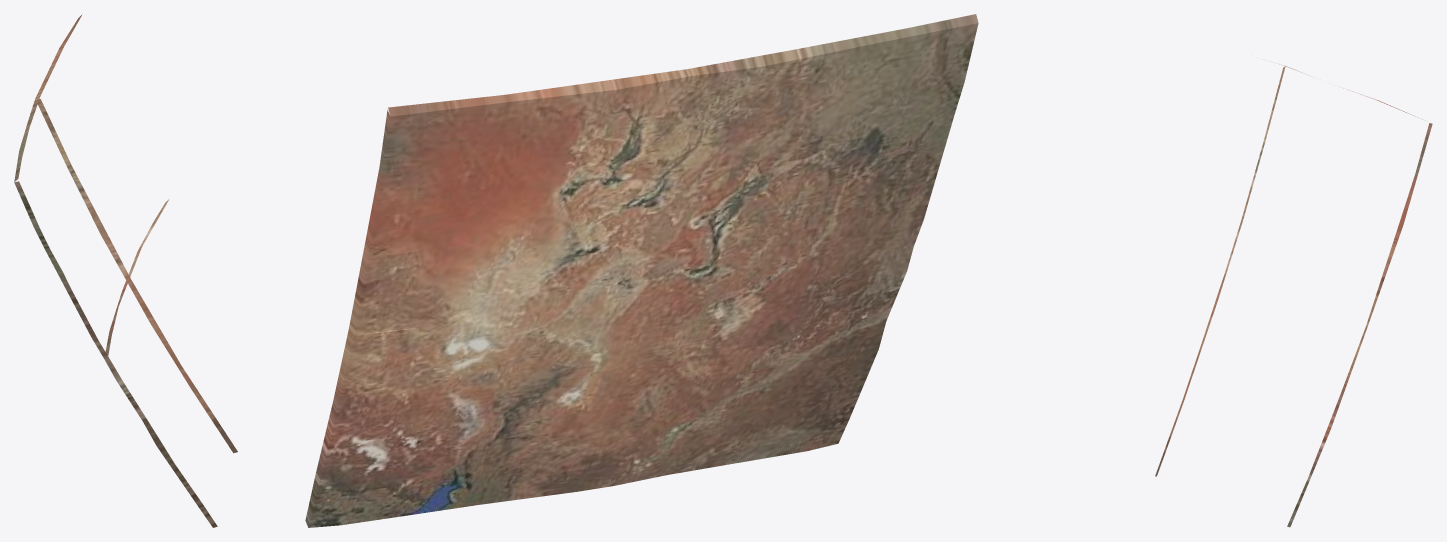
3 views of the same model, side by side, from view 1: azimuth 30°, elevation 25°; view 2: azimuth 150°, elevation 25°; view 3: azimuth 270°, elevation 25° (orthographic). The views are drawn at different scales.
Size of the model in its own units: 1163444 by 1119026 by 1238052.
Materials: 1 (1 with a texture image).
